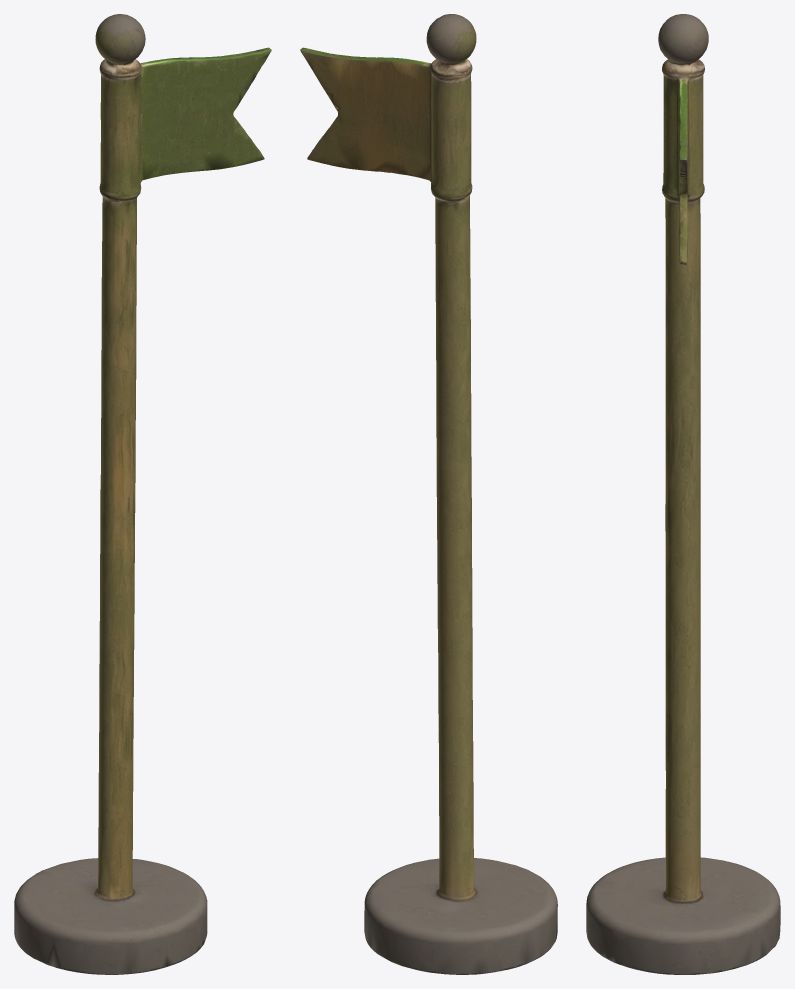
Rendered from pipsCheckpointFlag.9b30fdba.glb.
3 renders of one model, left to right at view 1: azimuth 30°, elevation 25°; view 2: azimuth 150°, elevation 25°; view 3: azimuth 270°, elevation 25°, orthographic.
Bounding box in the file's own units: 0.5274 × 1.9 × 0.3622.
Materials: 1 (1 with a texture image).
